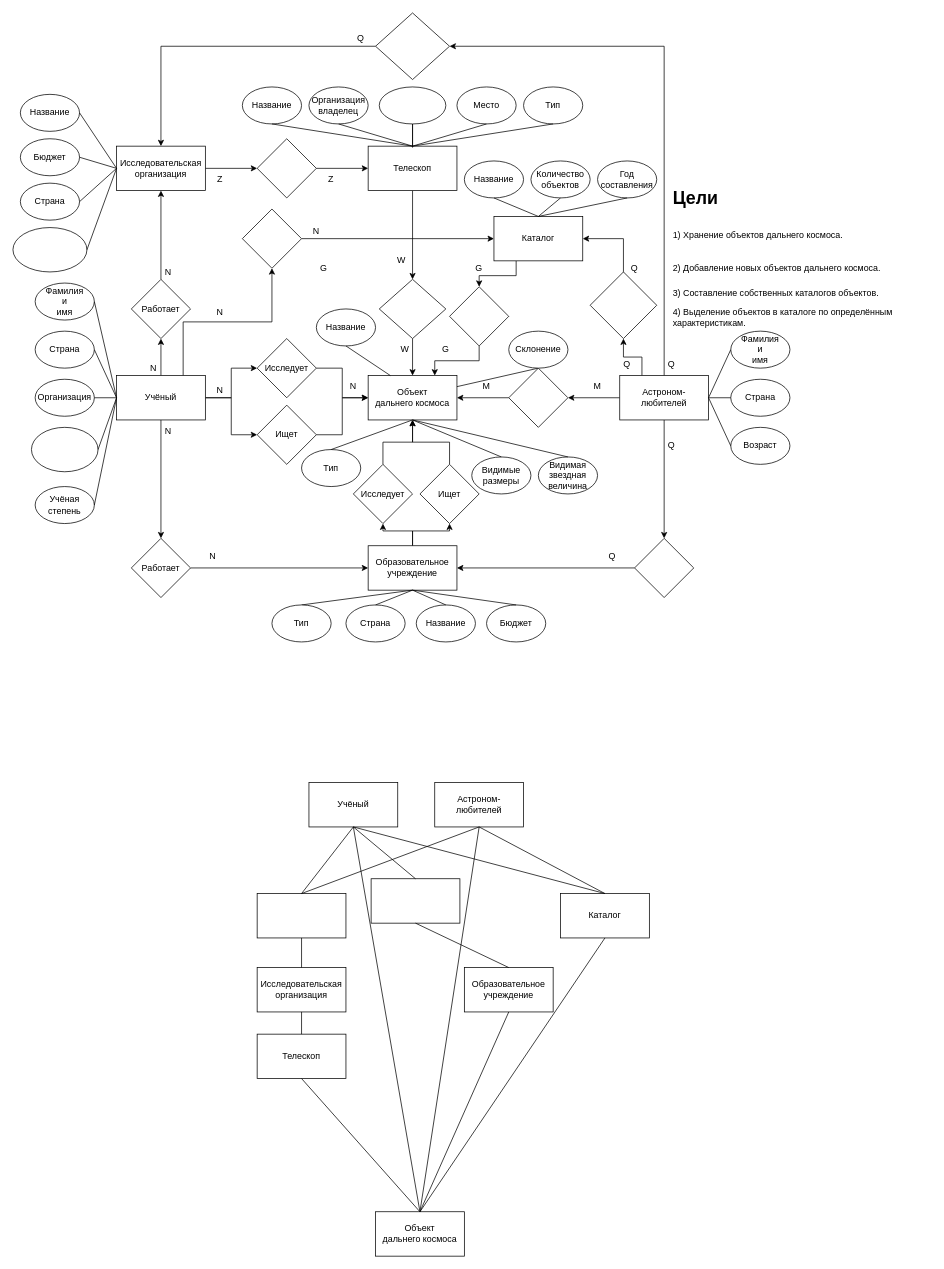
Image size: 944x1269. Some labels were removed from this diagram. The shapes that lost their labels are listed below. From the top down, each one's centre as x and y in pixels, then its label:
At pixel 412 46: "Следит за новостями".
At pixel 412 105: "Год начала эксплуатации".
At pixel 286 168: "Наблюдает".
At pixel 49 249: "Финансирование".
At pixel 272 238: "Составляет".
At pixel 412 309: "Регистрирует".
At pixel 479 316: "Содержит".
At pixel 623 305: "Составляет свои".
At pixel 538 397: "Читает".
At pixel 64 449: "Специальность".
At pixel 664 568: "Учится".
At pixel 301 915: "Учёный в исследовательской организации".
At pixel 415 900: "Учёный в образовательном учреждении".
